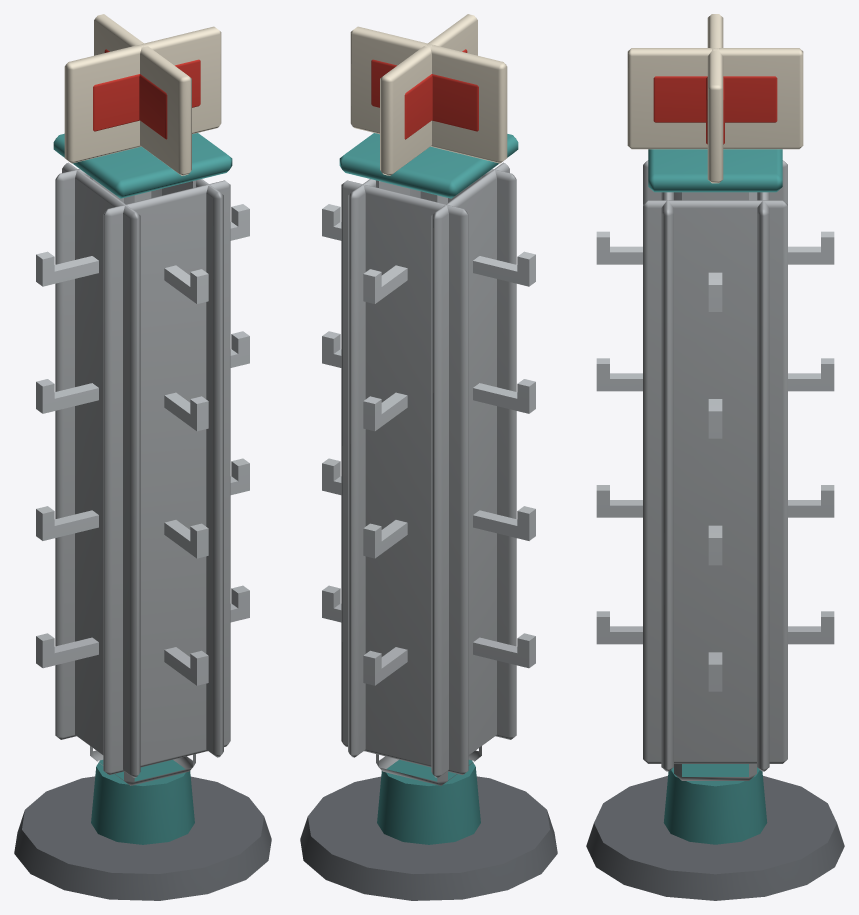
File: SpinnerRack_01.glb
3 views of the same model, side by side, from view 1: azimuth 30°, elevation 25°; view 2: azimuth 150°, elevation 25°; view 3: azimuth 270°, elevation 25° (orthographic).
Parts seen in each view (by area): view 1: SM_SpinnerRack_01; view 2: SM_SpinnerRack_01; view 3: SM_SpinnerRack_01.
Part boxes in pixels (x1,y1,x2,y2): SM_SpinnerRack_01: [14, 14, 271, 900]; SM_SpinnerRack_01: [300, 14, 557, 900]; SM_SpinnerRack_01: [586, 14, 844, 900].
Bounding box in the file's own units: 0.5 × 1.7 × 0.5.
1 material, 1 textured.
